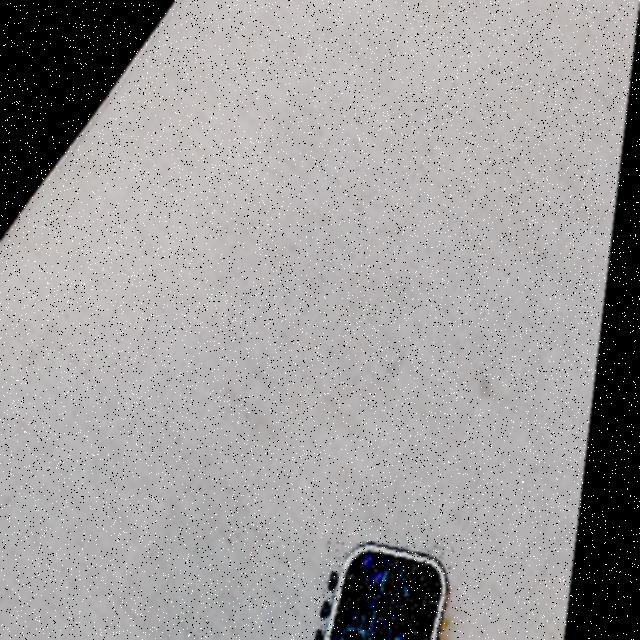adapter: (332, 540, 469, 640)
